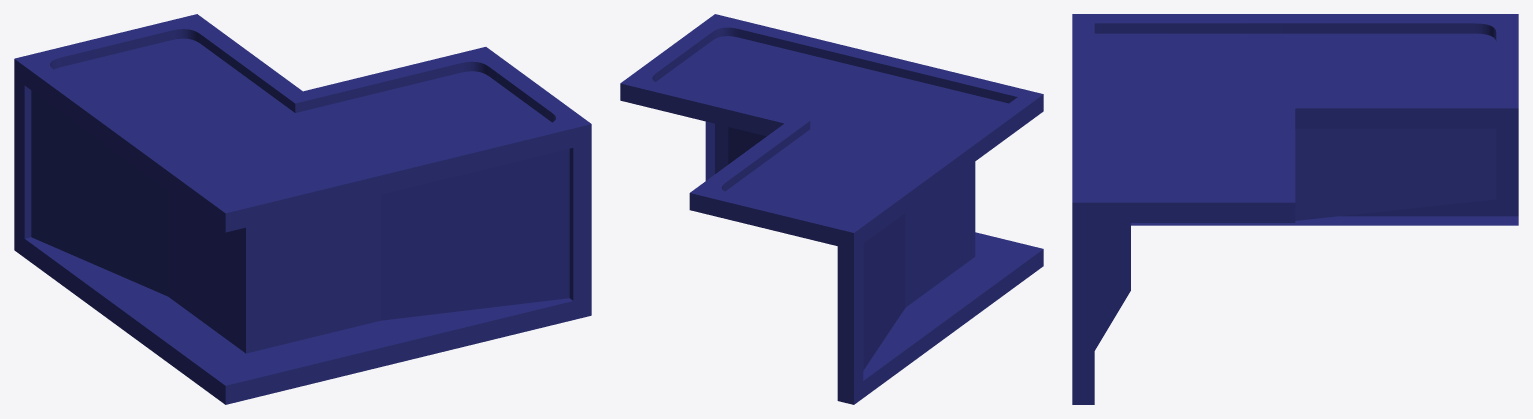
The model's file is Wall_4x1m_A_Turn_In.FBX.
The picture shows the model from 3 angles, left to right: view 1: azimuth 30°, elevation 25°; view 2: azimuth 150°, elevation 25°; view 3: azimuth 270°, elevation 25°; orthographic projection. The views are drawn at different scales.
Parts seen in each view (by area): view 1: Wall_4x1m_A_Turn_In; view 2: Wall_4x1m_A_Turn_In; view 3: Wall_4x1m_A_Turn_In.
Part boxes in pixels (x1,y1,x2,y2): Wall_4x1m_A_Turn_In: [14, 14, 591, 404]; Wall_4x1m_A_Turn_In: [620, 14, 1043, 404]; Wall_4x1m_A_Turn_In: [1072, 14, 1518, 404].
Bounding box in the file's own units: 200 × 100 × 200.
